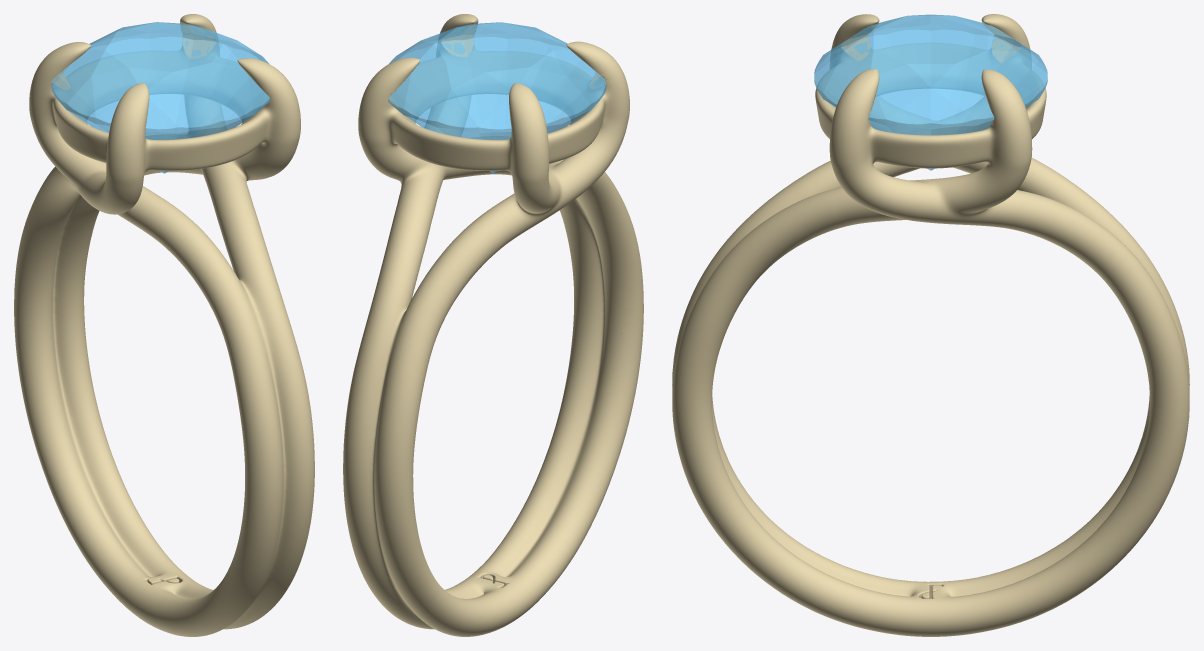
Rendered from Ring-3.glb.
The picture shows the model from 3 angles, left to right: view 1: azimuth 30°, elevation 25°; view 2: azimuth 150°, elevation 25°; view 3: azimuth 270°, elevation 25°; orthographic projection. The views are drawn at different scales.
Visible parts, largest first — view 1: Metal 01(5995EA95-EA1B-41E7-B274-5B575BEE4F62), Diamond_Round(9359FD3D-3A3F-465F-A0D3-7A33BCC131D5); view 2: Metal 01(5995EA95-EA1B-41E7-B274-5B575BEE4F62), Diamond_Round(9359FD3D-3A3F-465F-A0D3-7A33BCC131D5); view 3: Metal 01(5995EA95-EA1B-41E7-B274-5B575BEE4F62), Diamond_Round(9359FD3D-3A3F-465F-A0D3-7A33BCC131D5).
Part boxes in pixels (bbox=[...]): Metal 01(5995EA95-EA1B-41E7-B274-5B575BEE4F62): bbox=[14, 14, 314, 636]; Diamond_Round(9359FD3D-3A3F-465F-A0D3-7A33BCC131D5): bbox=[51, 22, 270, 173]; Metal 01(5995EA95-EA1B-41E7-B274-5B575BEE4F62): bbox=[343, 14, 643, 636]; Diamond_Round(9359FD3D-3A3F-465F-A0D3-7A33BCC131D5): bbox=[388, 22, 606, 173]; Metal 01(5995EA95-EA1B-41E7-B274-5B575BEE4F62): bbox=[672, 14, 1189, 636]; Diamond_Round(9359FD3D-3A3F-465F-A0D3-7A33BCC131D5): bbox=[814, 14, 1047, 170].
Bounding box in the file's own units: 0.00926 × 0.0257 × 0.0205.
